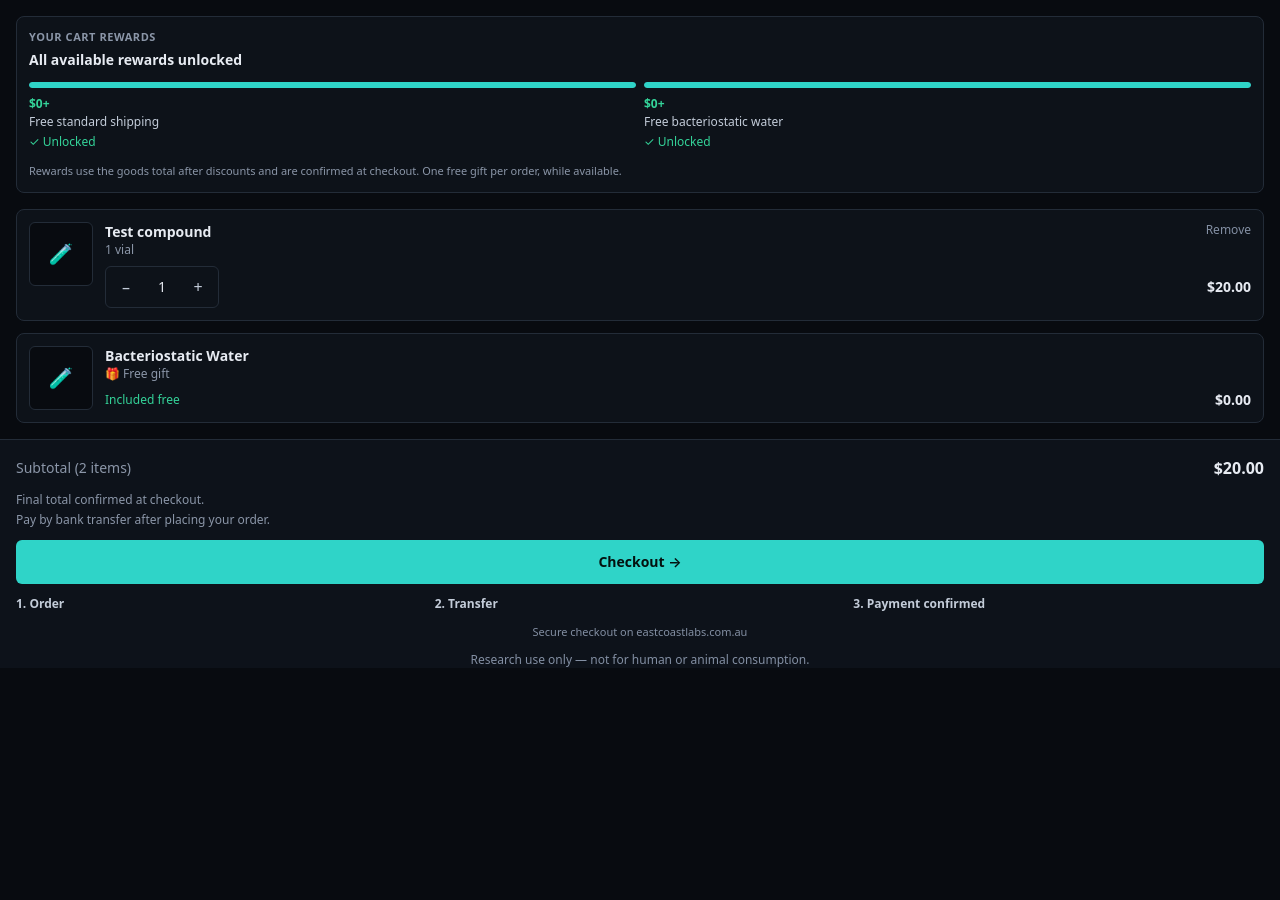
preserves eligible gifts but removes them when the last paid item is removed
Check: the link "Bacteriostatic Water" is shown, box [105,346,249,366]
Click the button with aria-label "Remove Test compound" at (1228, 230), box [1198,214,1259,246]
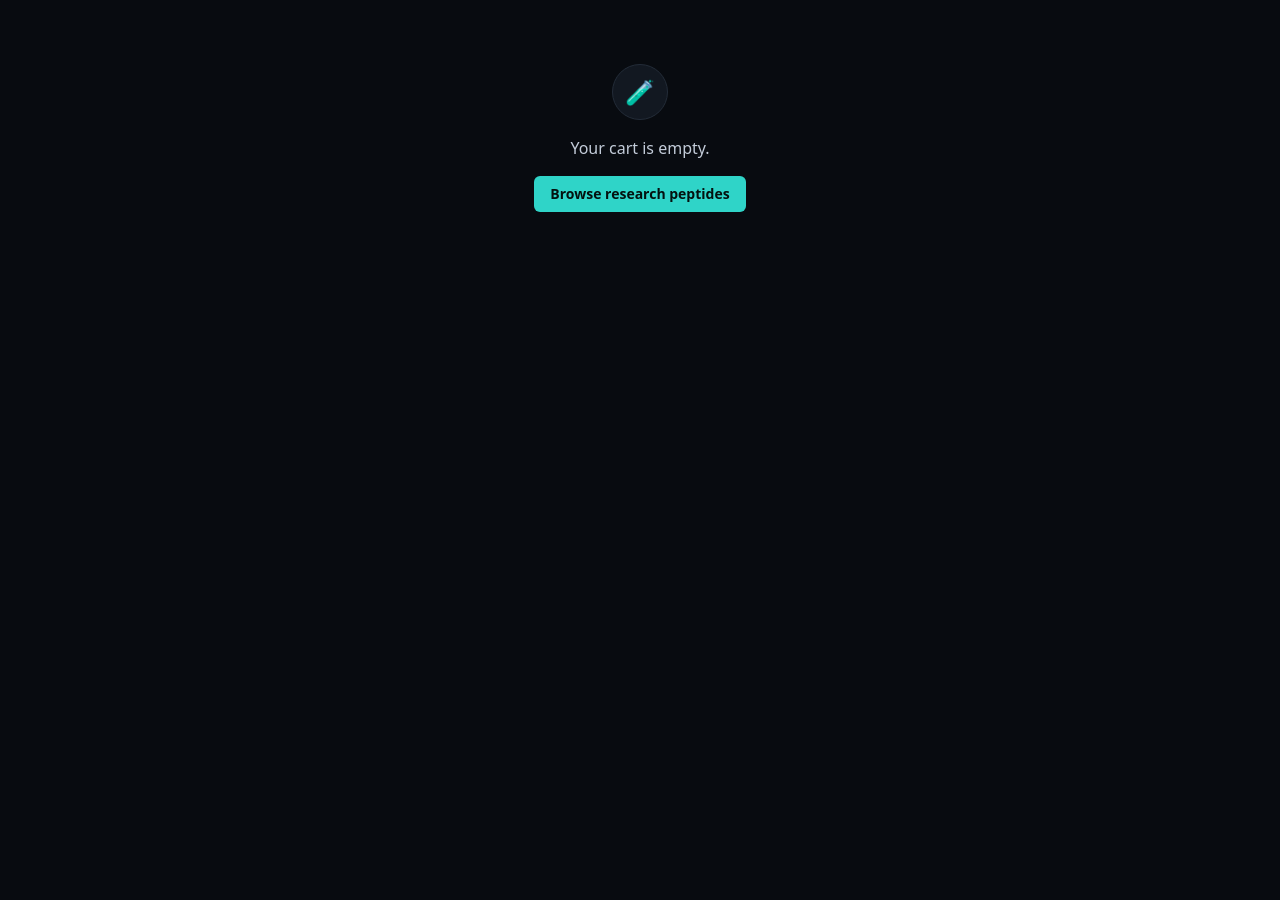
Check: the text "Your cart is empty." is shown, box [570,136,710,160]
